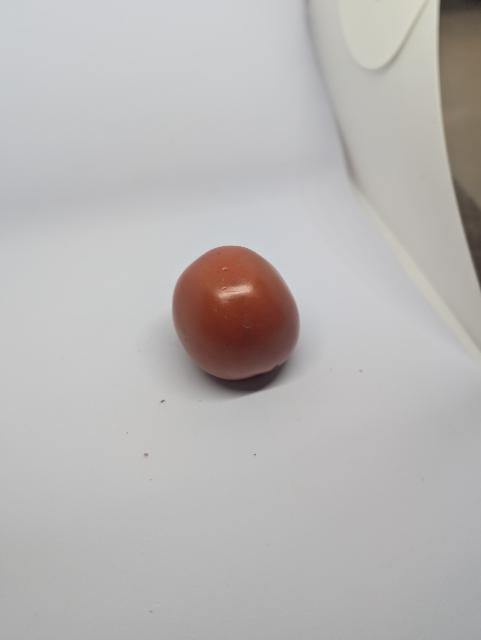red: (170, 242, 306, 385)
